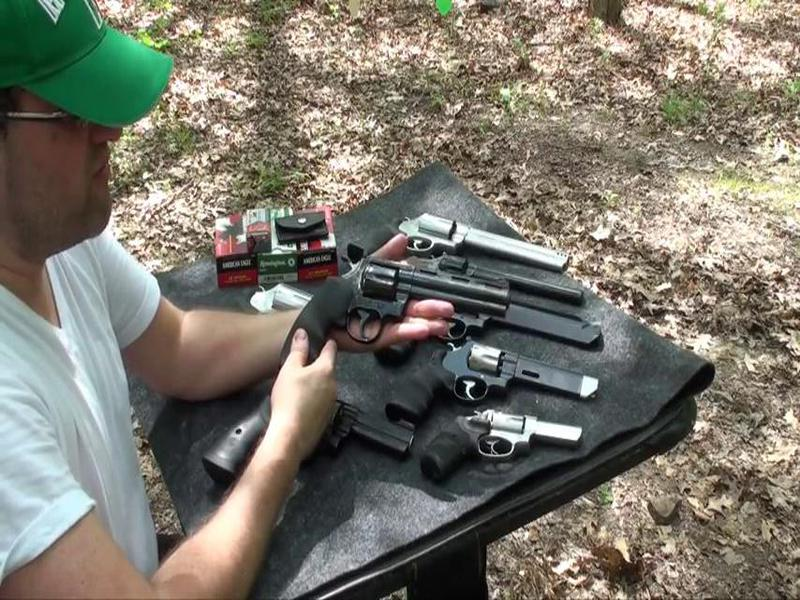Revolver: (274, 247, 510, 393)
